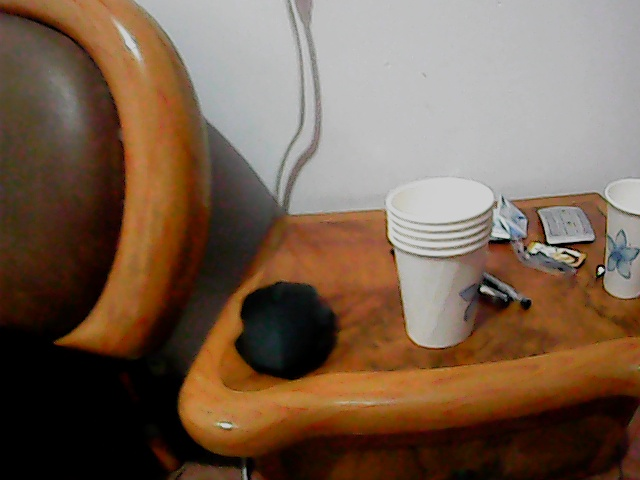cup: (384, 172, 496, 349)
mouse: (232, 275, 339, 380)
